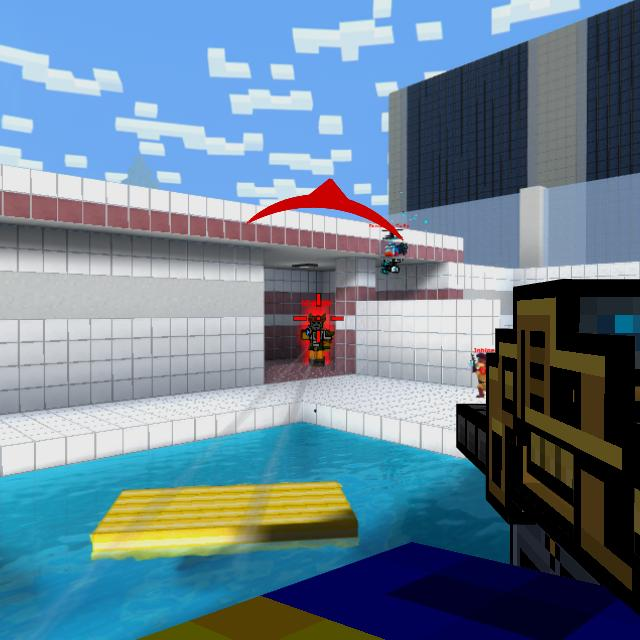Enemy: (301, 315, 334, 367)
